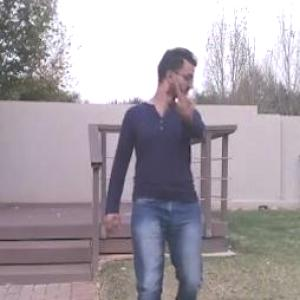takeoff-hand: (160, 63, 199, 117)
